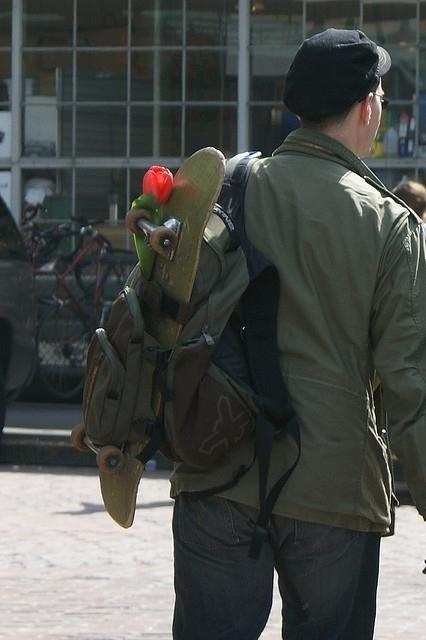bicycle: (40, 223, 138, 304), (34, 298, 100, 397), (19, 205, 44, 278)
